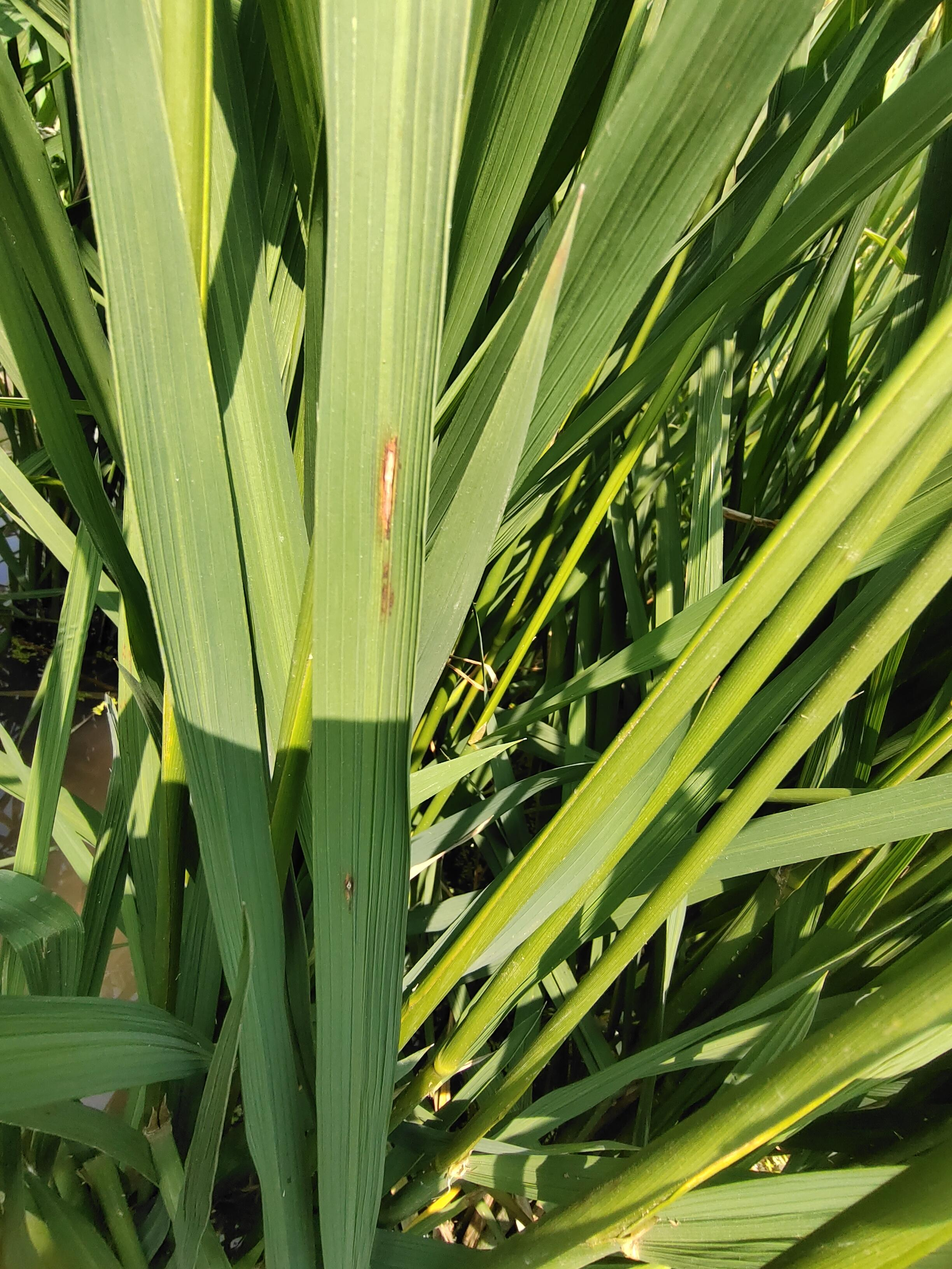LEAF: (310, 0, 471, 1269)
LEAF BLAST: (380, 437, 397, 537), (382, 440, 396, 493), (345, 873, 354, 904)
